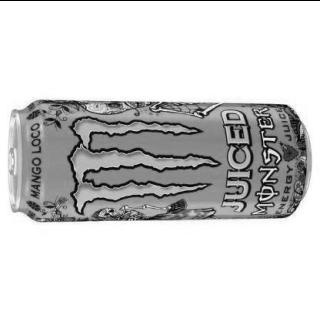alumunium_can: (5, 98, 316, 224)
